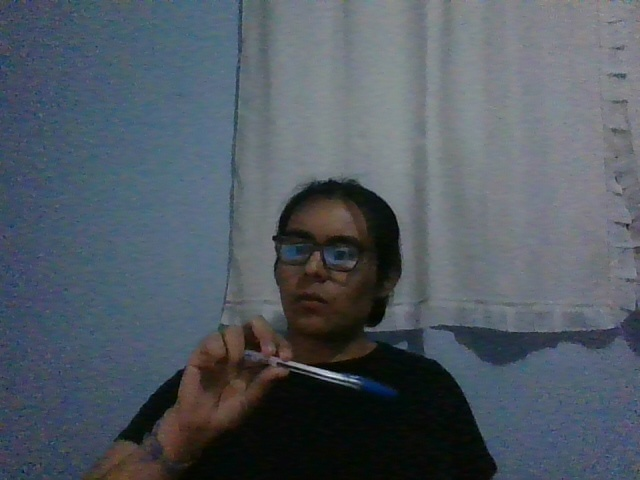pluma: (243, 349, 399, 398)
